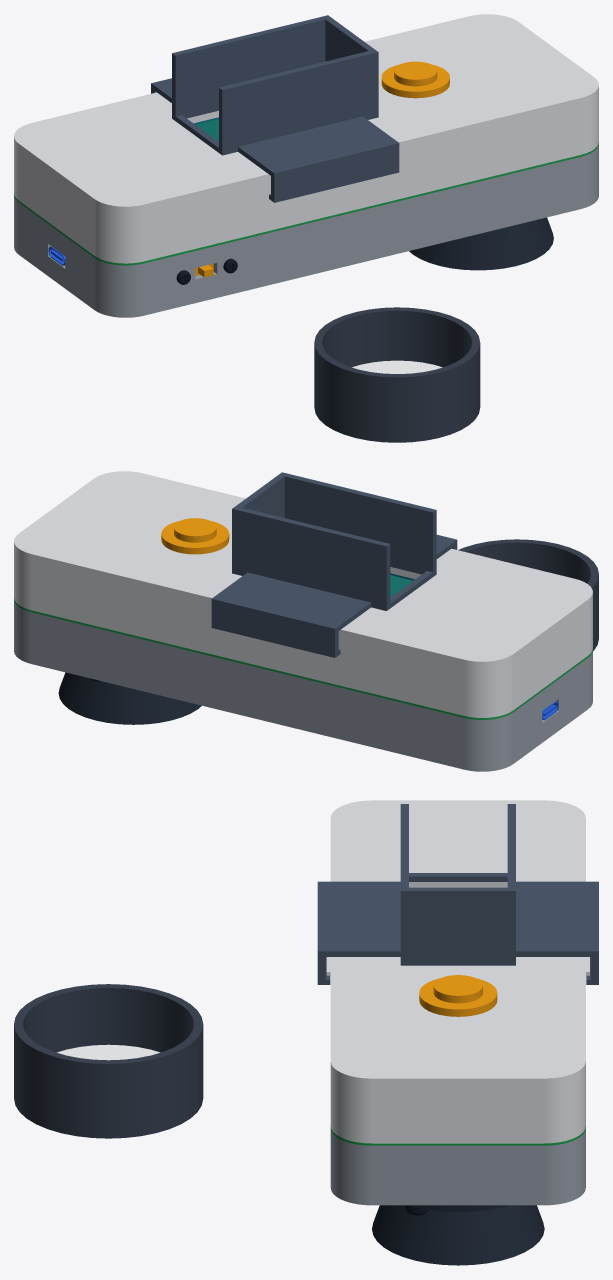
The picture shows the model from 3 angles, top to bottom: view 1: azimuth 30°, elevation 25°; view 2: azimuth 150°, elevation 25°; view 3: azimuth 270°, elevation 25°; orthographic projection. The views are drawn at different scales.
Visible parts, largest first — view 1: Top shell, Bottom shell and grip, Clip-on sun hood, Calibration cap (black), Black TPU light shroud, Scan button and power switch, Shell gasket, White PTFE reference disc; view 2: Top shell, Bottom shell and grip, Clip-on sun hood, Black TPU light shroud, Calibration cap (black), Scan button and power switch, Shell gasket; view 3: Top shell, Calibration cap (black), Clip-on sun hood, Bottom shell and grip, Black TPU light shroud, Scan button and power switch, White PTFE reference disc, Shell gasket.
Boxes of the visible parts, bbox=[...] form: Top shell: bbox=[14, 14, 598, 263]; Bottom shell and grip: bbox=[14, 144, 598, 317]; Clip-on sun hood: bbox=[151, 15, 399, 202]; Calibration cap (black): bbox=[314, 307, 480, 442]; Black TPU light shroud: bbox=[409, 217, 553, 270]; Scan button and power switch: bbox=[195, 61, 449, 277]; Shell gasket: bbox=[14, 142, 598, 265]; White PTFE reference disc: bbox=[352, 360, 442, 373]; Top shell: bbox=[14, 471, 592, 717]; Bottom shell and grip: bbox=[14, 600, 592, 771]; Clip-on sun hood: bbox=[211, 472, 457, 657]; Black TPU light shroud: bbox=[58, 672, 201, 724]; Calibration cap (black): bbox=[458, 539, 598, 650]; Scan button and power switch: bbox=[161, 518, 229, 554]; Shell gasket: bbox=[14, 598, 592, 719]; Top shell: bbox=[326, 800, 589, 1143]; Calibration cap (black): bbox=[14, 984, 203, 1138]; Clip-on sun hood: bbox=[317, 804, 598, 984]; Bottom shell and grip: bbox=[330, 1128, 585, 1205]; Black TPU light shroud: bbox=[372, 1205, 544, 1265]; Scan button and power switch: bbox=[419, 975, 497, 1016]; White PTFE reference disc: bbox=[57, 1044, 160, 1060]; Shell gasket: bbox=[330, 1126, 585, 1145].
Bounding box in the file's own units: 0.16 × 0.072 × 0.1422.
